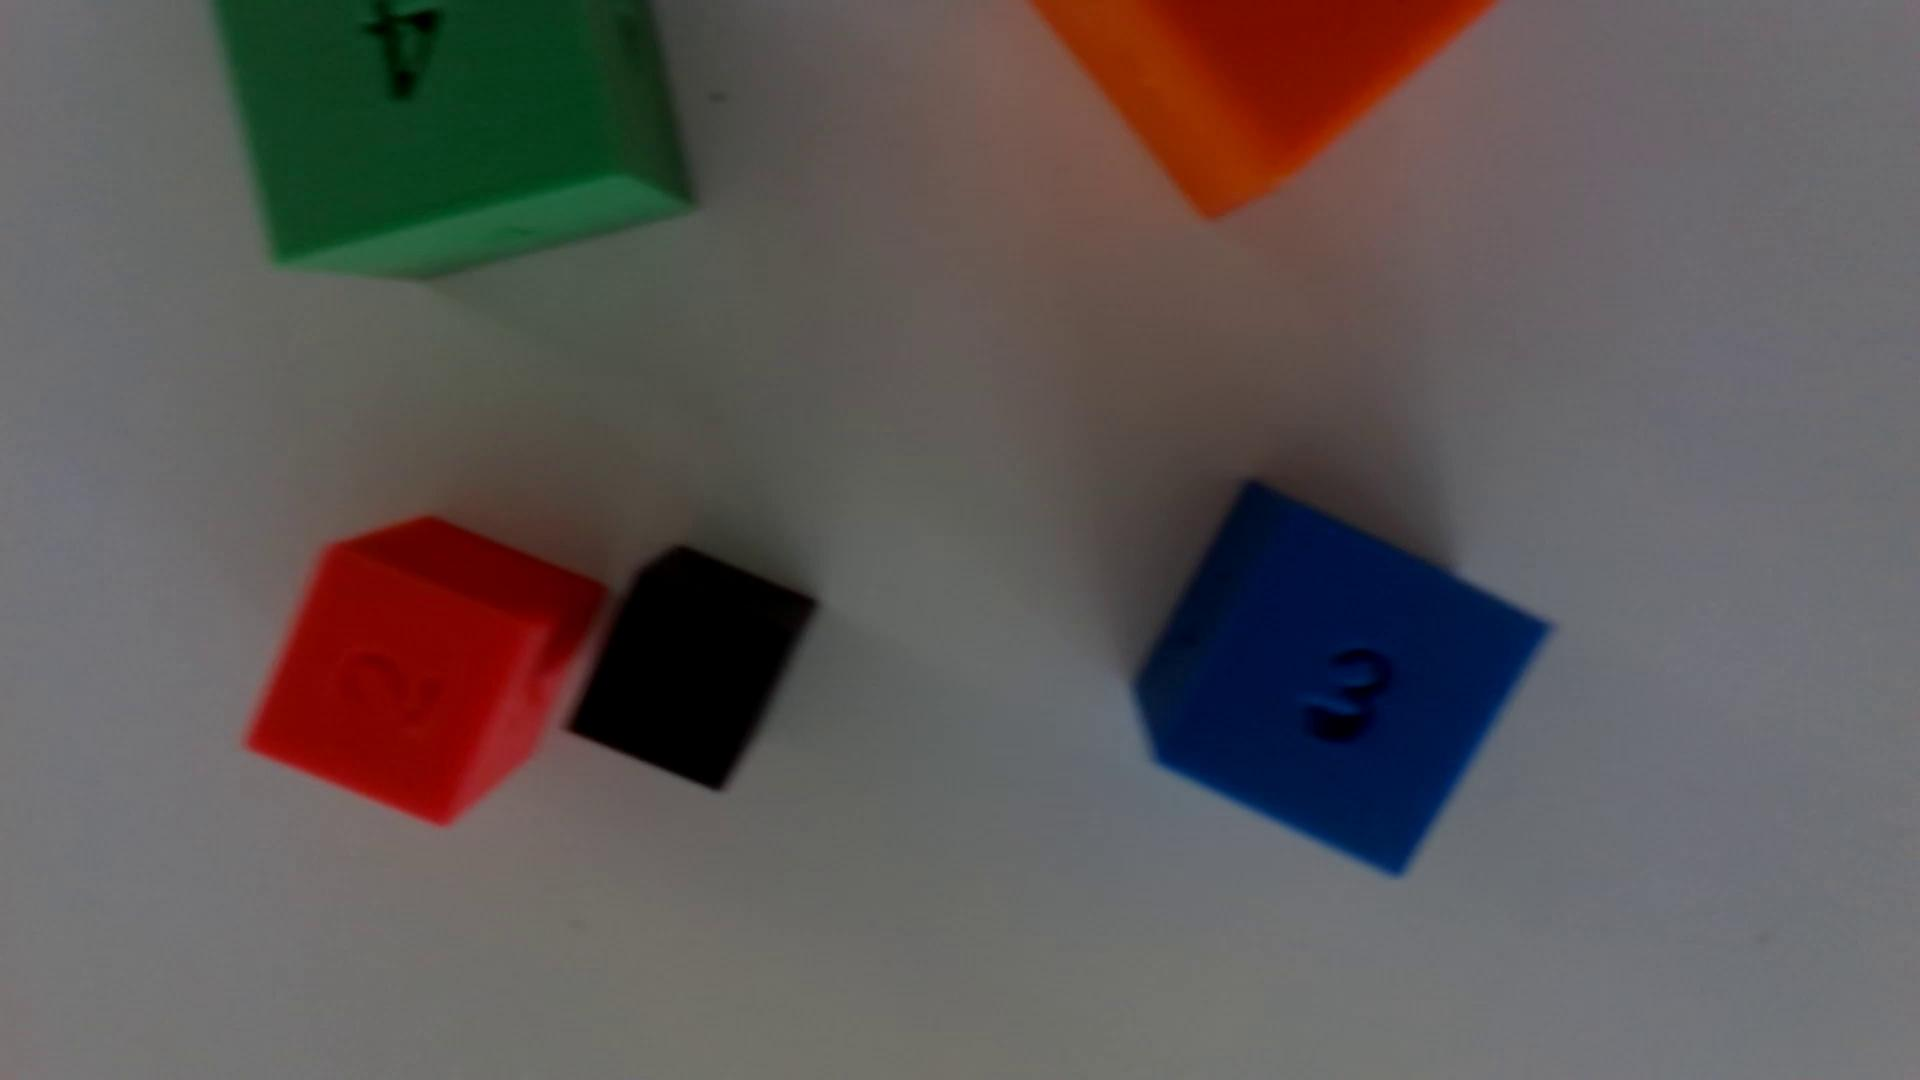black: (570, 545, 816, 789)
blue: (1135, 483, 1549, 873)
green: (212, 0, 695, 278)
orange: (1033, 0, 1494, 218)
red: (248, 516, 607, 824)
